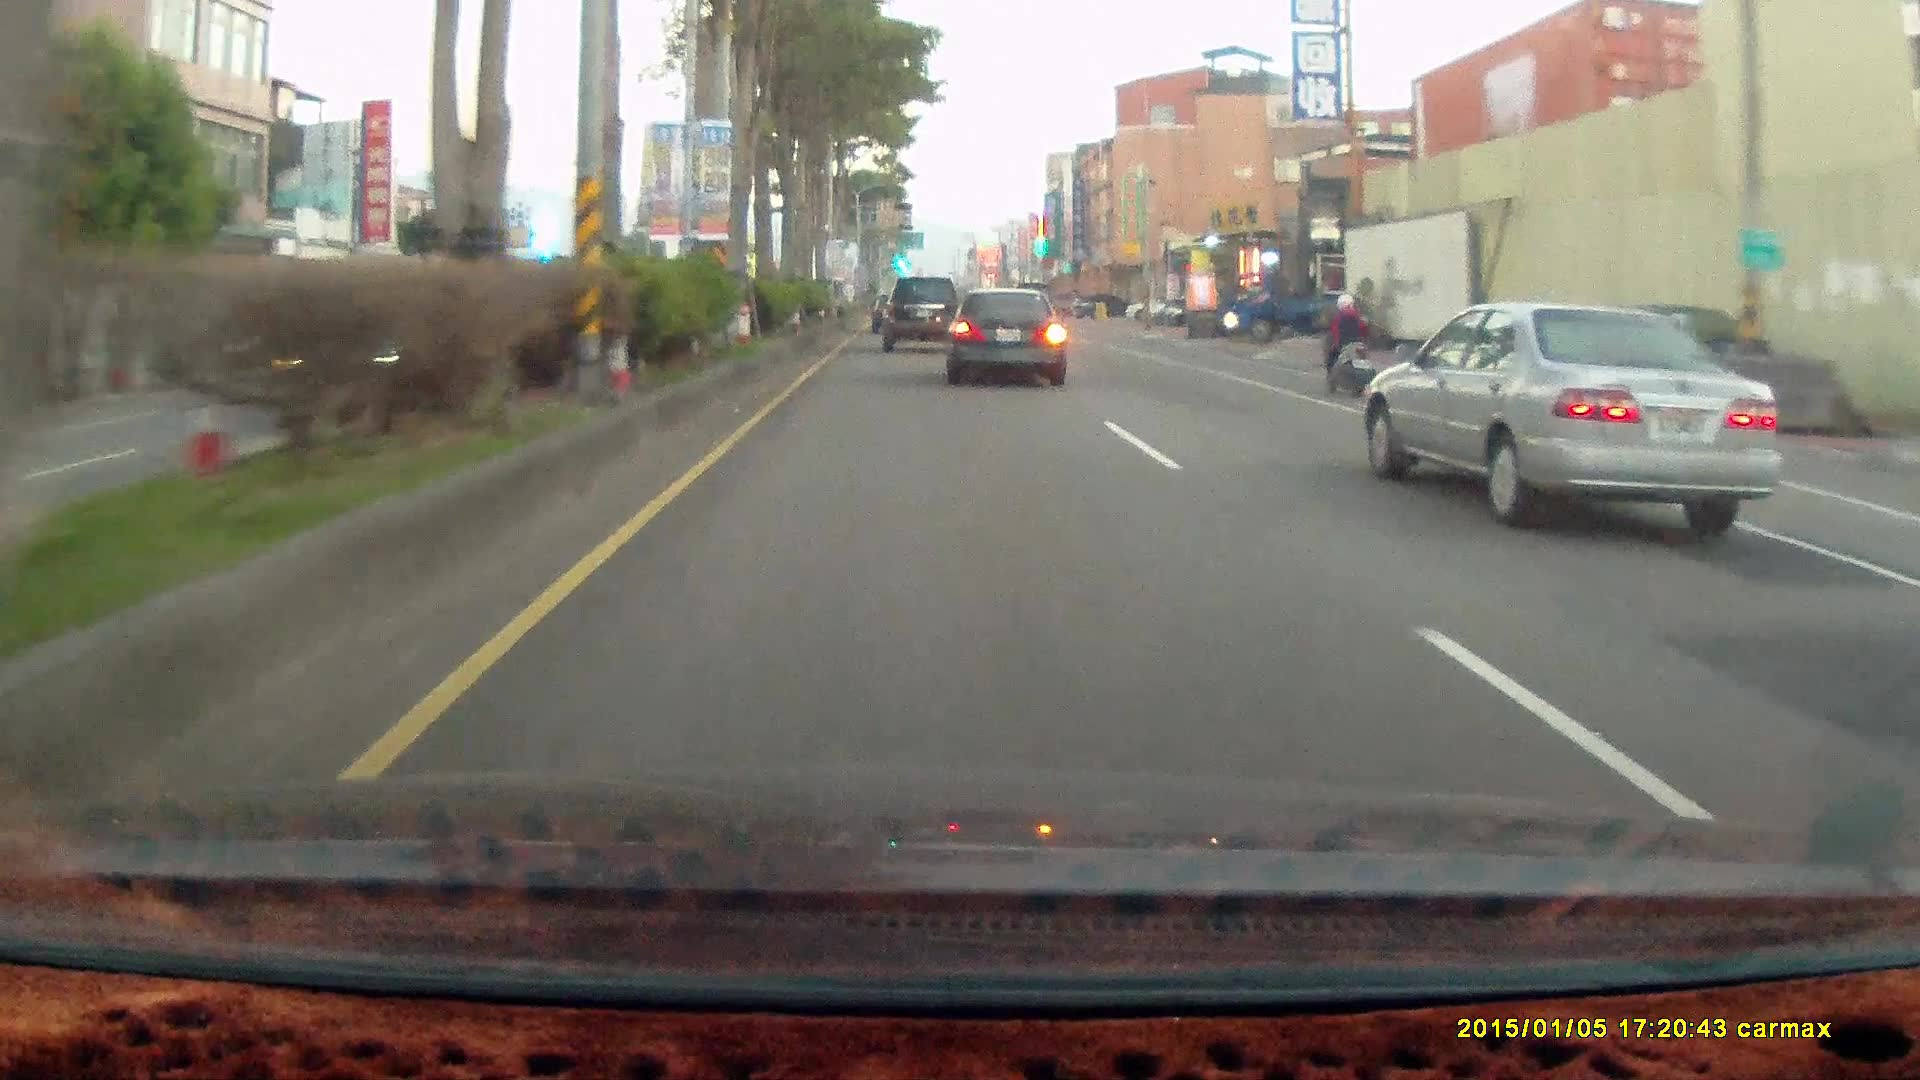rider: (1313, 283, 1384, 403), (1319, 288, 1380, 400)
vehicle: (1362, 298, 1777, 534), (1369, 300, 1789, 529), (948, 292, 1073, 391), (943, 287, 1067, 387), (1221, 266, 1356, 341), (1221, 271, 1359, 341), (879, 281, 961, 353), (882, 277, 960, 348), (1073, 295, 1130, 319), (1121, 295, 1177, 319)
